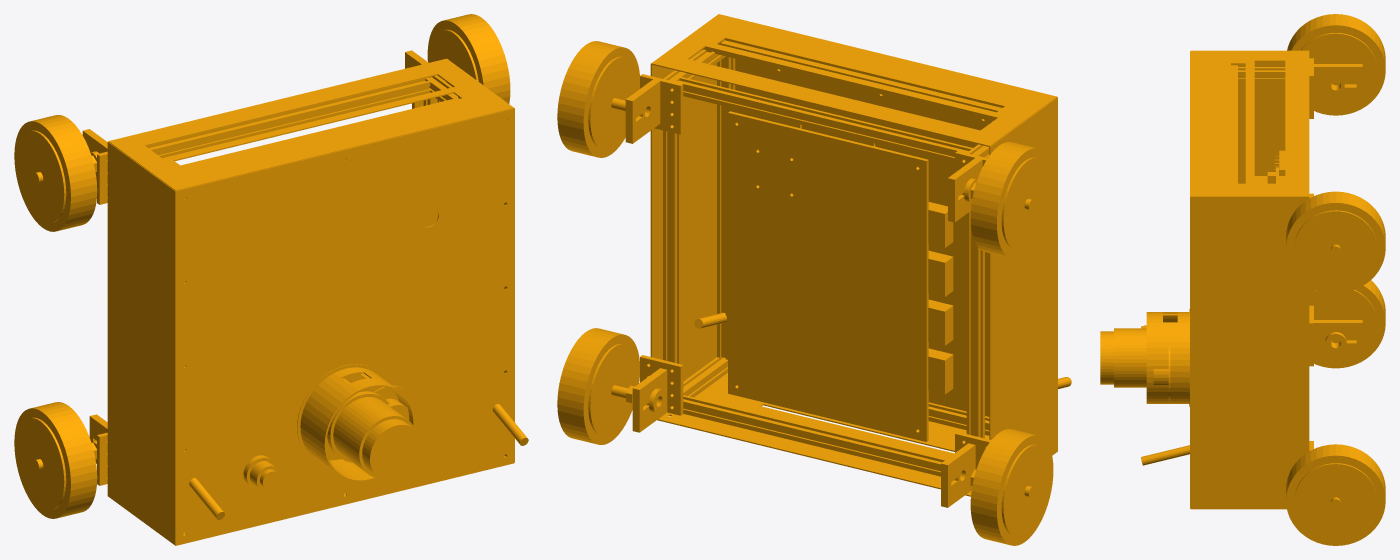
Rendered from bvr1_assembly.glb.
3 views of the same model, side by side, from view 1: azimuth 30°, elevation 25°; view 2: azimuth 150°, elevation 25°; view 3: azimuth 270°, elevation 25° (orthographic). The views are drawn at different scales.
Visible parts, largest first — view 1: bar-diff-diff-union-union-union-union-union-union-union-unio; view 2: bar-diff-diff-union-union-union-union-union-union-union-unio; view 3: bar-diff-diff-union-union-union-union-union-union-union-unio.
Boxes of the visible parts, <box> form: bar-diff-diff-union-union-union-union-union-union-union-unio: <box>14,14,528,545</box>; bar-diff-diff-union-union-union-union-union-union-union-unio: <box>557,14,1071,545</box>; bar-diff-diff-union-union-union-union-union-union-union-unio: <box>1100,14,1385,545</box>.
Bounding box in the file's own units: 775 × 638 × 481.
